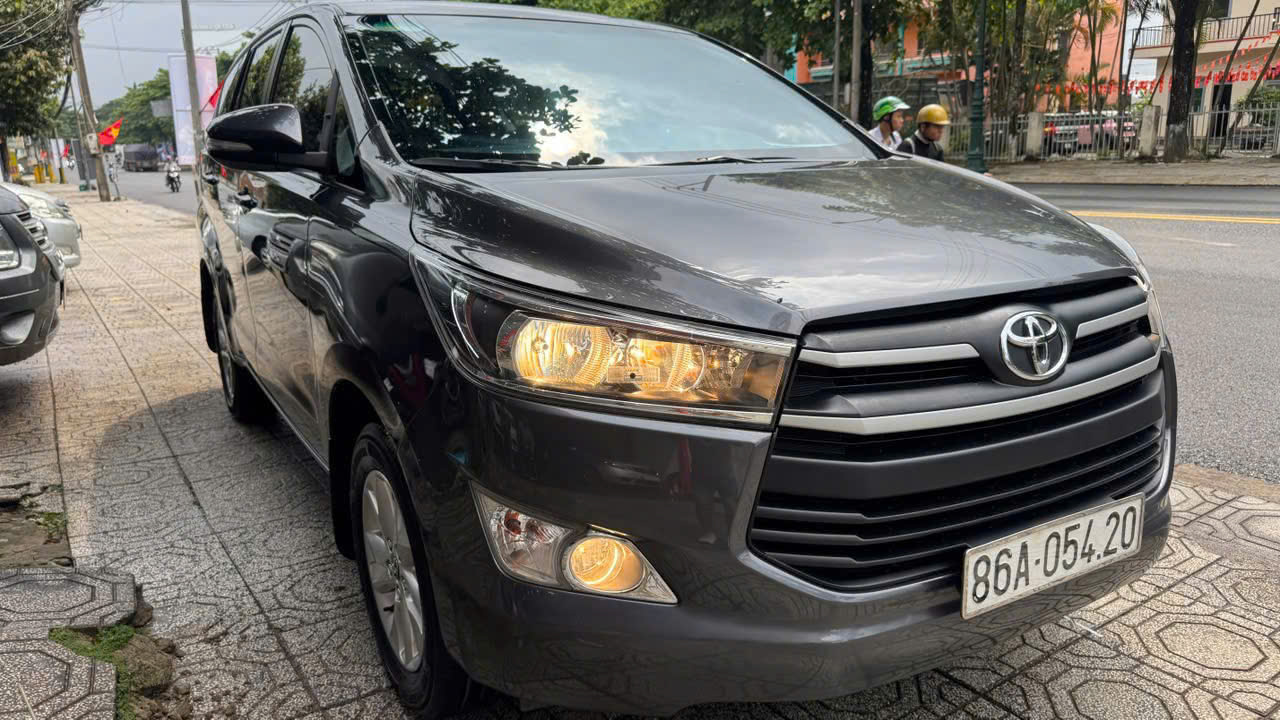Bien-so: (969, 498, 1141, 613)
